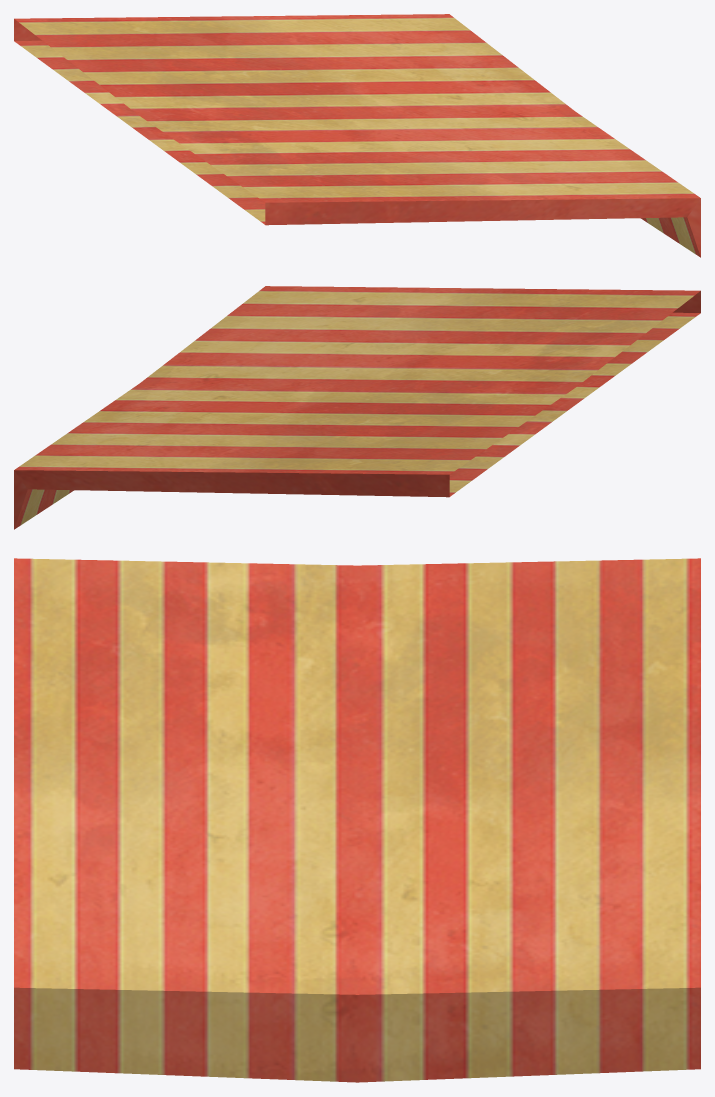
Rendered from Prop_Canopy_04.fbx.
3 views of the same model, one above another, from view 1: azimuth 30°, elevation 25°; view 2: azimuth 150°, elevation 25°; view 3: azimuth 270°, elevation 25° (orthographic). The views are drawn at different scales.
Visible parts, largest first — view 1: Prop_Canopy_04; view 2: Prop_Canopy_04; view 3: Prop_Canopy_04.
Part boxes in pixels (<box>): Prop_Canopy_04: <box>14,14,700,257</box>; Prop_Canopy_04: <box>14,286,700,529</box>; Prop_Canopy_04: <box>14,558,700,1082</box>.
Size of the model in its own units: 250 by 93.88 by 250.
